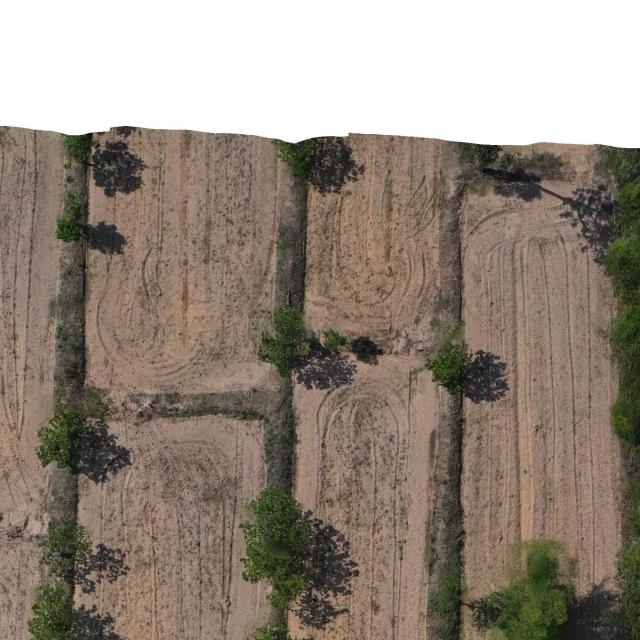Tree: (483, 536, 579, 640), (238, 486, 318, 610), (257, 305, 348, 378), (424, 320, 475, 396), (27, 583, 88, 640), (38, 517, 94, 578), (34, 410, 88, 469), (270, 138, 316, 184), (455, 142, 501, 174), (60, 133, 92, 163), (53, 216, 84, 243)
